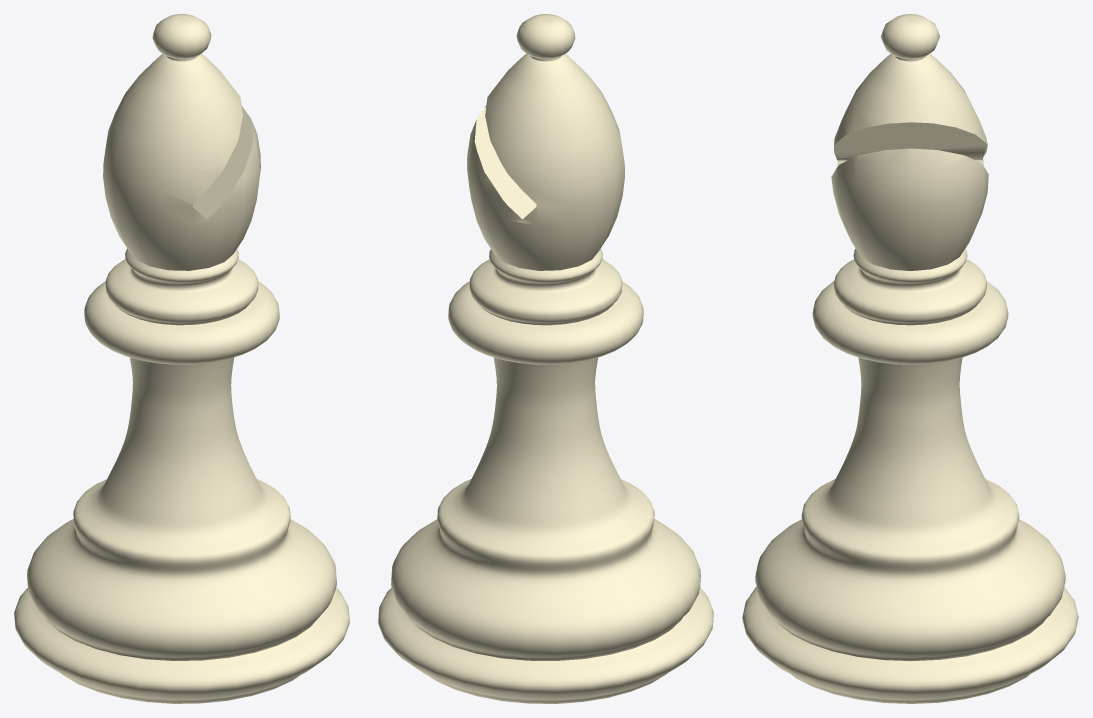
File: Bishop.fbx
3 views of the same model, side by side, from view 1: azimuth 30°, elevation 25°; view 2: azimuth 150°, elevation 25°; view 3: azimuth 270°, elevation 25° (orthographic).
Visible parts, largest first — view 1: Bishop; view 2: Bishop; view 3: Bishop.
Boxes of the visible parts, x1,y1,x2,y2 form: Bishop: (14, 14, 349, 703); Bishop: (378, 14, 713, 703); Bishop: (742, 14, 1078, 703).
Size of the model in its own units: 151 by 313 by 151.
